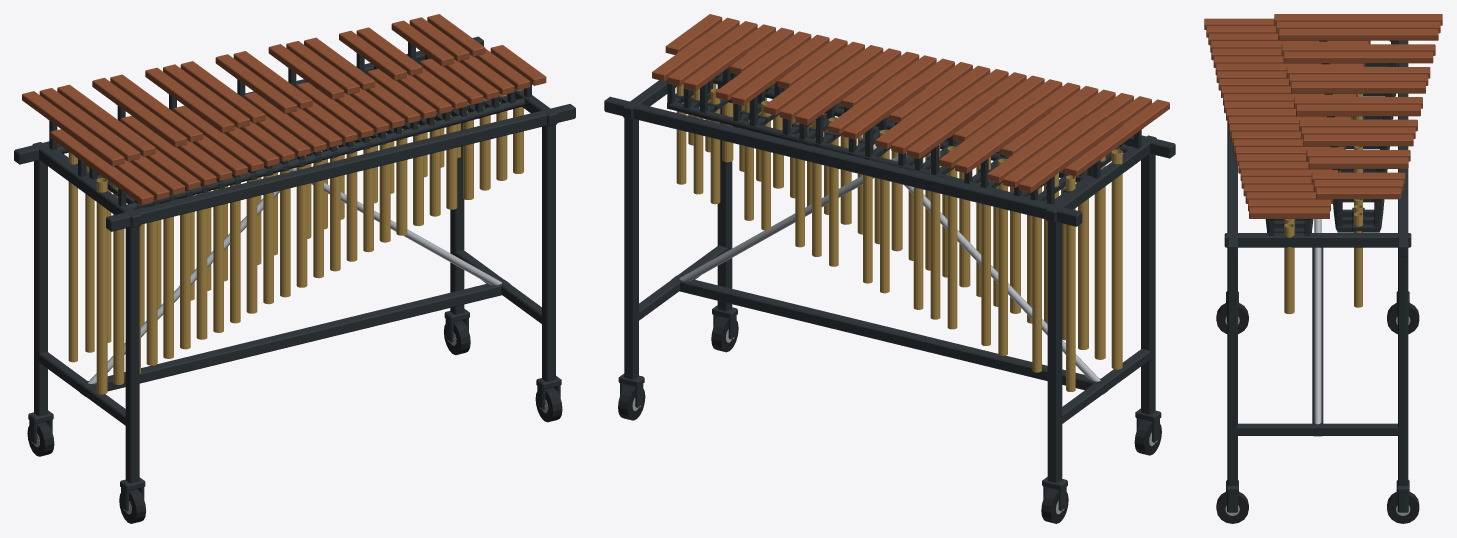
File: A-NEW-20261026-WOOD-XYLOPHONE-001_LOD2_R3.glb
3 views of the same model, side by side, from view 1: azimuth 30°, elevation 25°; view 2: azimuth 150°, elevation 25°; view 3: azimuth 270°, elevation 25° (orthographic). The views are drawn at different scales.
Parts seen in each view (by area): view 1: long top frame -0.21, lower longitudinal stabilizer, stand leg -0.55 -0.21, stand leg 0.55 -0.21, stand leg -0.55 0.21, bar support longitudinal rail 0, open resonator tube 00, open resonator tube 02, open resonator tube 01, wood note bar 01, top cross member -0.55, wood note bar 00 (+71 smaller); view 2: long top frame 0.21, lower longitudinal stabilizer, stand leg -0.55 0.21, stand leg 0.55 0.21, stand leg -0.55 -0.21, open resonator tube 00, bar support longitudinal rail 3, open resonator tube 02, stand leg 0.55 -0.21, wood note bar 01, top cross member -0.55, open resonator tube 01 (+51 smaller); view 3: stand leg 0.55 -0.21, stand leg 0.55 0.21, top cross member 0.55, bottom cross member 0.55, wood note bar 10, wood note bar 05, wood note bar 22, wood note bar 17, diagonal brace right, wood note bar 29, wood note bar 01, wood note bar 03 (+46 smaller).
Boxes of the visible parts, left/top/right/bottom form: long top frame -0.21: left=106, top=104, right=575, bottom=231; lower longitudinal stabilizer: left=80, top=279, right=509, bottom=396; stand leg -0.55 -0.21: left=125, top=226, right=139, bottom=483; stand leg 0.55 -0.21: left=542, top=125, right=555, bottom=381; stand leg -0.55 0.21: left=34, top=160, right=47, bottom=416; bar support longitudinal rail 0: left=127, top=98, right=525, bottom=209; open resonator tube 00: left=96, top=178, right=107, bottom=394; open resonator tube 02: left=113, top=184, right=124, bottom=384; open resonator tube 01: left=68, top=152, right=77, bottom=362; wood note bar 01: left=22, top=91, right=124, bottom=166; top cross member -0.55: left=32, top=142, right=141, bottom=227; wood note bar 00: left=50, top=129, right=153, bottom=204; long top frame 0.21: left=604, top=96, right=1082, bottom=226; lower longitudinal stabilizer: left=671, top=275, right=1108, bottom=394; stand leg -0.55 0.21: left=1047, top=221, right=1062, bottom=482; stand leg 0.55 0.21: left=624, top=118, right=638, bottom=379; stand leg -0.55 -0.21: left=1141, top=153, right=1155, bottom=414; open resonator tube 00: left=1111, top=149, right=1122, bottom=369; bar support longitudinal rail 3: left=669, top=102, right=1046, bottom=202; open resonator tube 02: left=1094, top=156, right=1105, bottom=359; stand leg 0.55 -0.21: left=717, top=84, right=732, bottom=311; wood note bar 01: left=1018, top=116, right=1123, bottom=192; top cross member -0.55: left=1046, top=135, right=1156, bottom=222; open resonator tube 01: left=1066, top=175, right=1075, bottom=391; stand leg 0.55 -0.21: left=1227, top=255, right=1237, bottom=485; stand leg 0.55 0.21: left=1398, top=256, right=1408, bottom=485; top cross member 0.55: left=1224, top=233, right=1411, bottom=247; bottom cross member 0.55: left=1237, top=423, right=1398, bottom=435; wood note bar 10: left=1283, top=51, right=1433, bottom=63; wood note bar 05: left=1278, top=29, right=1438, bottom=40; wood note bar 22: left=1296, top=104, right=1420, bottom=116; wood note bar 17: left=1291, top=82, right=1425, bottom=93; diagonal brace right: left=1314, top=219, right=1321, bottom=424; wood note bar 29: left=1303, top=134, right=1413, bottom=146; wood note bar 01: left=1274, top=14, right=1442, bottom=25; wood note bar 03: left=1276, top=21, right=1440, bottom=33.
Size of the model in its own units: 1.23 by 0.87 by 0.5874.
